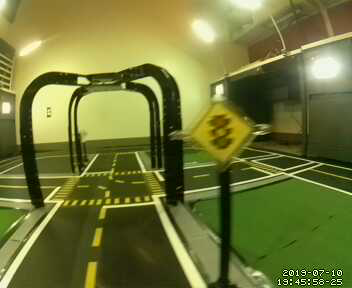Traffic light sign: (192, 100, 258, 163)
